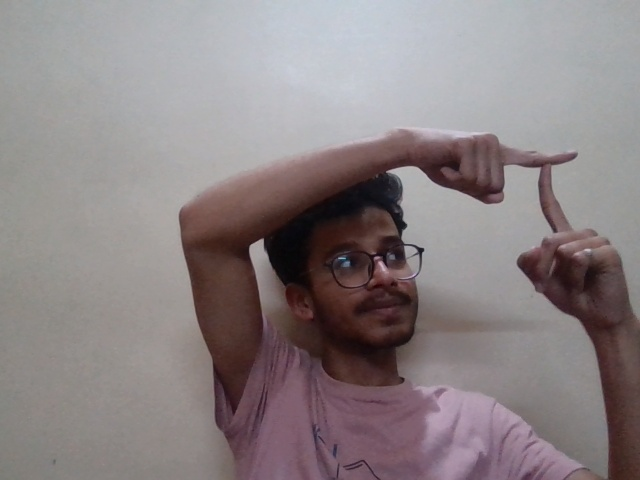T: (491, 137, 634, 310)
